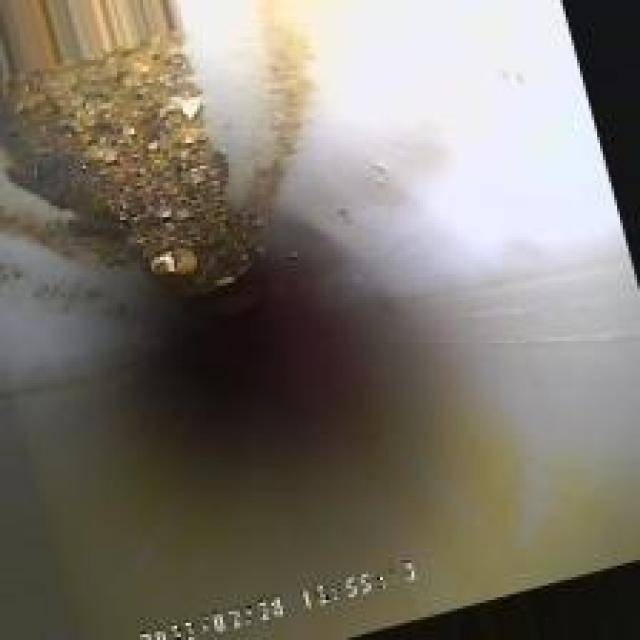stone: (131, 226, 206, 306)
